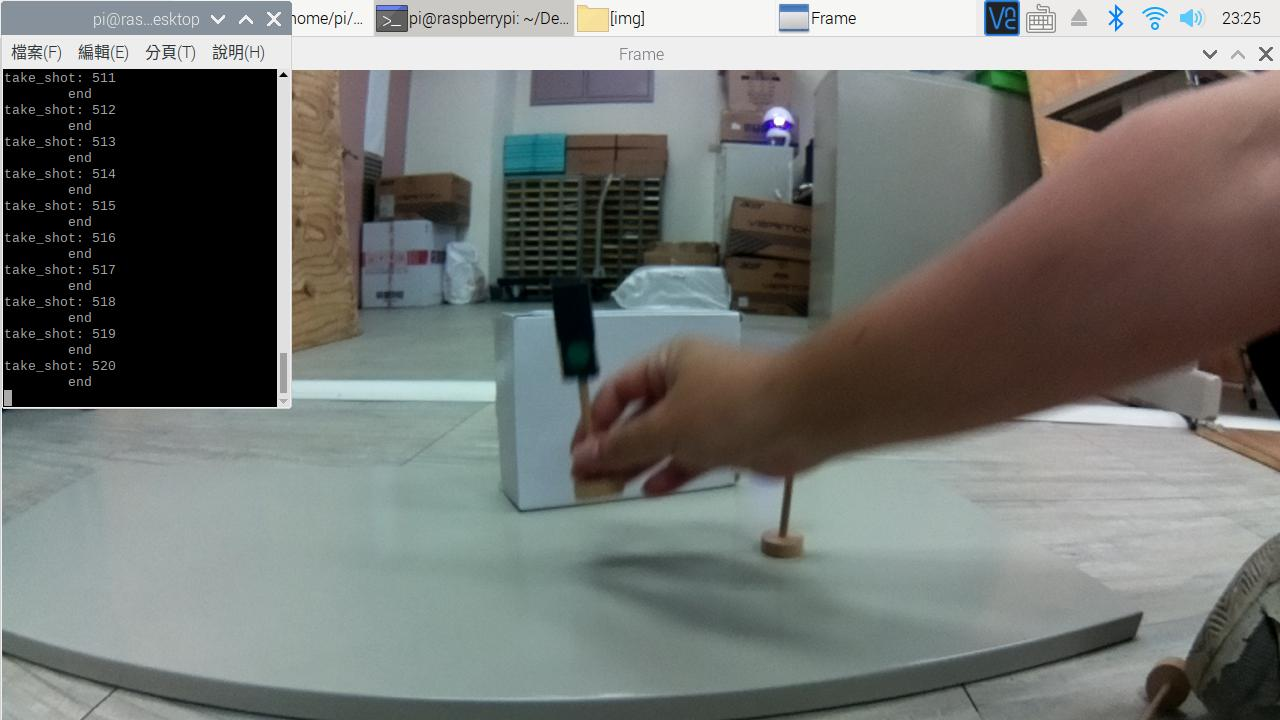Green: (543, 273, 608, 387)
